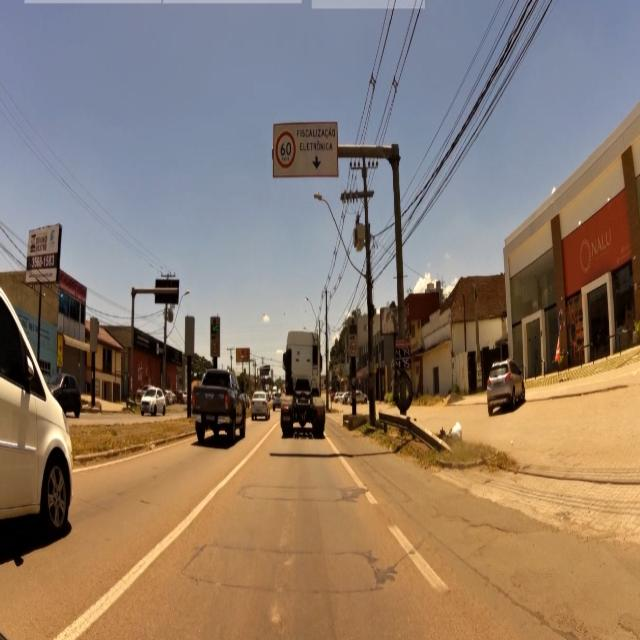R-19: (275, 130, 298, 170)
